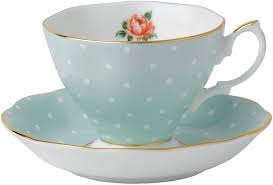cup: (40, 2, 267, 148)
